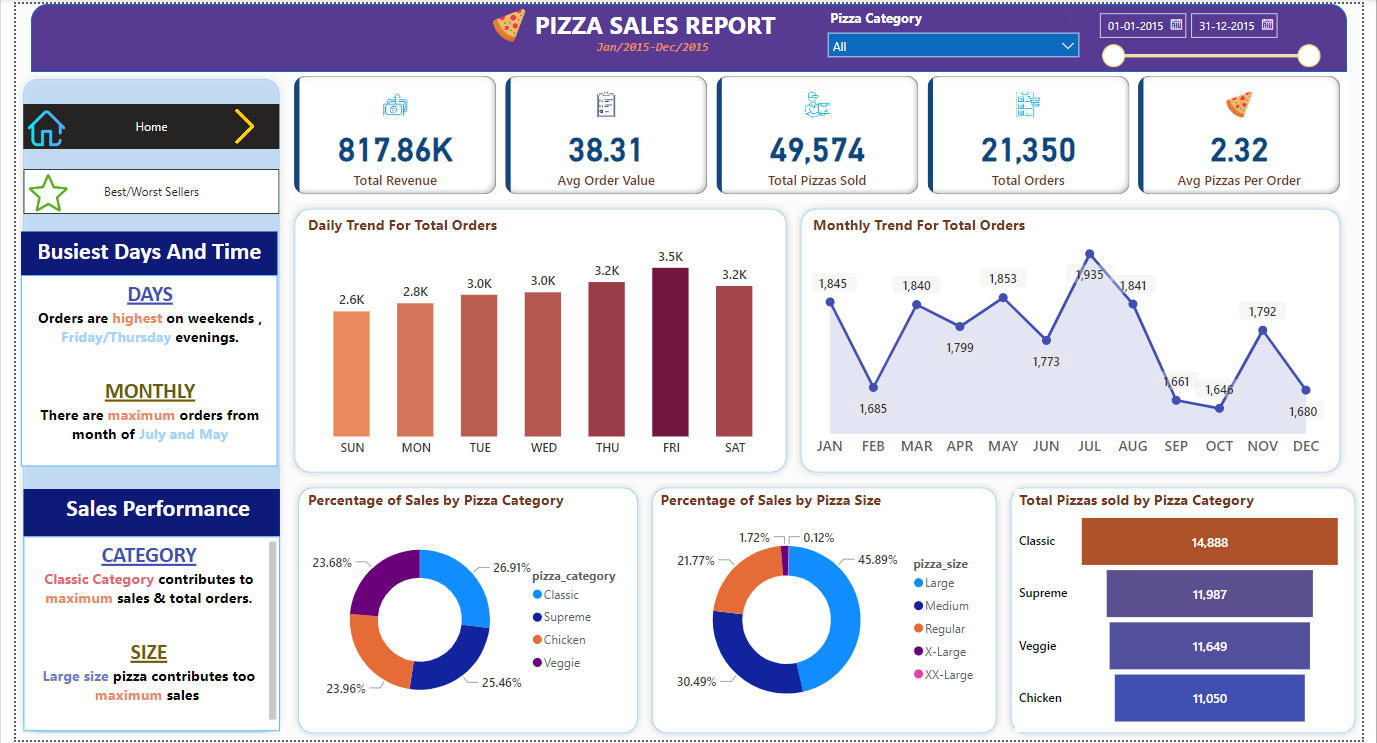

Layout of this report page (visuals, bound fields, positions):
{"tool":"powerbi","page":{"name":"Home","canvas":[1500,820],"ordinal":0},"visuals":[{"type":"shape","box":[0,75.7,301.4,744.3],"z":0},{"type":"cardVisual","fields":{"Data":["pizza_sales.Total Revenue","pizza_sales.Avg Order Value","pizza_sales.Total Pizzas Sold","pizza_sales.Total Orders","pizza_sales.Avg Pizzas Per Order"]},"box":[304.3,75.7,1178.6,142.9],"z":1000},{"type":"shape","box":[17.1,0,1465.7,75.7],"z":2000},{"type":"textbox","box":[567.1,0,290,47.1],"z":3000},{"type":"textbox","box":[618.6,32.9,181.4,64.3],"z":4000},{"type":"image","box":[515.7,0,67.1,47.1],"z":5000},{"type":"shape","box":[301.4,220,564.3,310],"z":6000},{"type":"columnChart","title":"Daily Trend For Total Orders","fields":{"Category":["pizza_sales.Order Day"],"Y":["pizza_sales.Total Orders"]},"box":[320,234.3,535.7,280],"z":7000},{"type":"shape","box":[865.7,220,617.1,310],"z":8000},{"type":"areaChart","title":"Monthly Trend For Total Orders","fields":{"Category":["pizza_sales.Order Month"],"Y":["pizza_sales.Total Orders"]},"box":[882.9,234.3,578.6,280],"z":9000},{"type":"shape","box":[305.7,530,394.3,290],"z":10000},{"type":"shape","box":[1100,530,400,290],"z":11000},{"type":"shape","box":[700,530,400,290],"z":12000},{"type":"donutChart","title":"Percentage of Sales by Pizza Category","fields":{"Category":["pizza_sales.pizza_category"],"Y":["pizza_sales.Total Revenue"]},"box":[320,540,368.6,270],"z":13000},{"type":"donutChart","title":"Percentage of Sales by Pizza Size","fields":{"Y":["pizza_sales.Total Revenue"],"Category":["pizza_sales.pizza_size"]},"box":[712.9,540,371.4,270],"z":14000},{"type":"funnel","title":"Total Pizzas sold by Pizza Category","fields":{"Category":["pizza_sales.pizza_category"],"Y":["pizza_sales.Total Pizzas Sold"]},"box":[1112.9,540,370,270],"z":15000},{"type":"textbox","box":[5.7,252.9,285.7,48.6],"z":16000},{"type":"textbox","box":[5.7,301.4,285.7,212.9],"z":17000},{"type":"textbox","box":[8.6,540,285.7,52.9],"z":18000},{"type":"textbox","box":[8.6,592.9,285.7,217.1],"z":19000},{"type":"slicer","fields":{"Values":["pizza_sales.pizza_category"]},"box":[894.3,0,300,65.7],"z":20000},{"type":"slicer","fields":{"Values":["pizza_sales.Parse"]},"box":[1194.3,0,267.1,75.7],"z":21000},{"type":"pageNavigator","box":[8.6,111.4,285.7,50],"z":22000},{"type":"pageNavigator","box":[8.6,184.3,285.7,50],"z":23000},{"type":"image","box":[217.1,111.4,74.3,50],"z":24000},{"type":"image","box":[8.6,107.1,51.4,61.4],"z":24001},{"type":"image","box":[5.7,184.3,60,52.9],"z":24002}]}

Visuals, with their boxes in screenshot pixels (x1, y1, x2, y2), scaled from the page's 1500x820 canvas onto the 1377x743 screenshot:
shape: x1=0, y1=69, x2=277, y2=742
cardVisual - pizza_sales.Total Revenue x pizza_sales.Avg Order Value: x1=279, y1=69, x2=1361, y2=198
shape: x1=16, y1=0, x2=1361, y2=69
textbox: x1=521, y1=0, x2=787, y2=43
textbox: x1=568, y1=30, x2=734, y2=88
image: x1=473, y1=0, x2=535, y2=43
shape: x1=277, y1=199, x2=795, y2=480
"Daily Trend For Total Orders" columnChart: x1=294, y1=212, x2=786, y2=466
shape: x1=795, y1=199, x2=1361, y2=480
"Monthly Trend For Total Orders" areaChart: x1=811, y1=212, x2=1342, y2=466
shape: x1=281, y1=480, x2=643, y2=742
shape: x1=1010, y1=480, x2=1376, y2=742
shape: x1=643, y1=480, x2=1010, y2=742
"Percentage of Sales by Pizza Category" donutChart: x1=294, y1=489, x2=632, y2=734
"Percentage of Sales by Pizza Size" donutChart: x1=654, y1=489, x2=995, y2=734
"Total Pizzas sold by Pizza Category" funnel: x1=1022, y1=489, x2=1361, y2=734
textbox: x1=5, y1=229, x2=268, y2=273
textbox: x1=5, y1=273, x2=268, y2=466
textbox: x1=8, y1=489, x2=270, y2=537
textbox: x1=8, y1=537, x2=270, y2=734
slicer - pizza_sales.pizza_category: x1=821, y1=0, x2=1096, y2=60
slicer - pizza_sales.Parse: x1=1096, y1=0, x2=1342, y2=69
pageNavigator: x1=8, y1=101, x2=270, y2=146
pageNavigator: x1=8, y1=167, x2=270, y2=212
image: x1=199, y1=101, x2=268, y2=146
image: x1=8, y1=97, x2=55, y2=153
image: x1=5, y1=167, x2=60, y2=215
